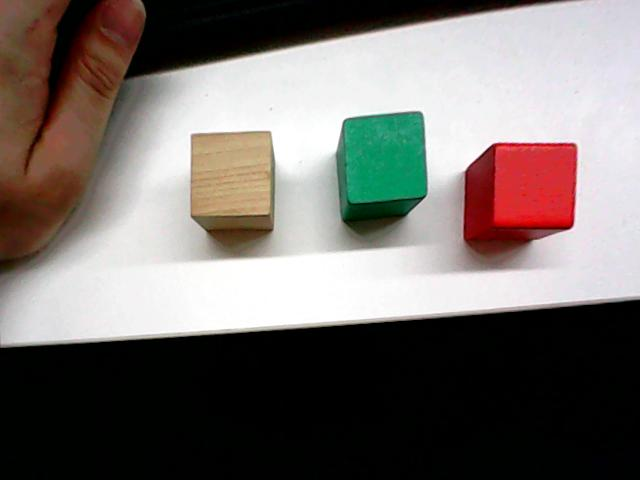green_box: (333, 107, 430, 224)
raw_box: (186, 127, 277, 234)
red_box: (460, 136, 581, 245)
